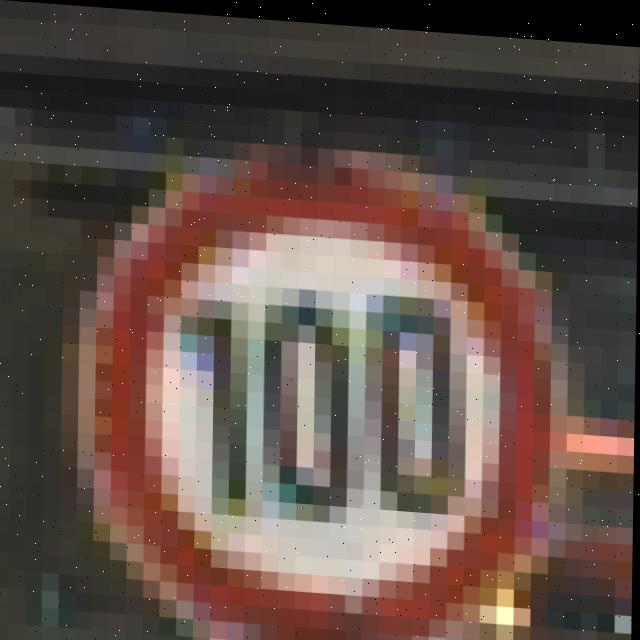speed_limit_100: (94, 129, 545, 613)
